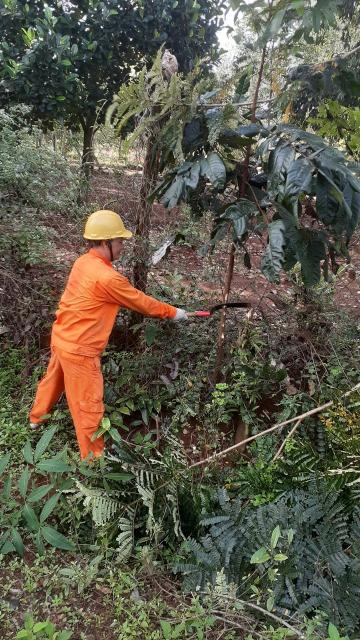gloves: (168, 300, 212, 337)
helmet: (67, 208, 141, 249)
